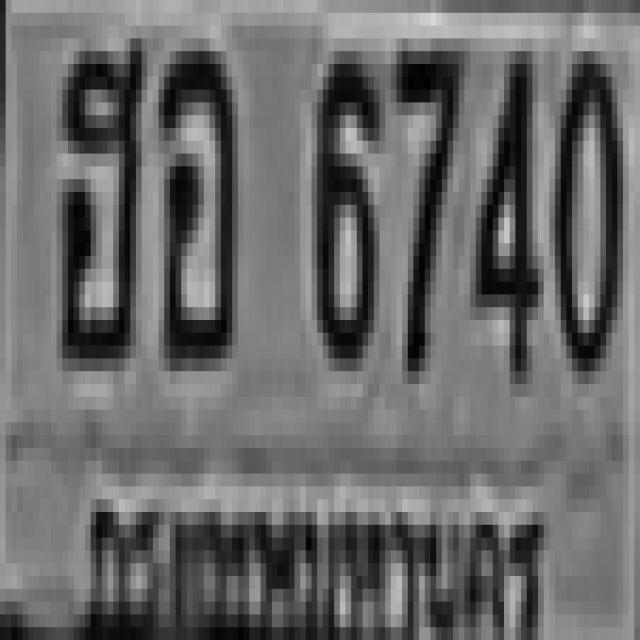0: (550, 39, 618, 372)
4: (470, 39, 532, 372)
52OrAng: (153, 39, 232, 358)
53HorNokHook: (56, 26, 142, 358)
6: (311, 39, 374, 358)
7: (391, 39, 459, 358)
Bangkok: (69, 466, 550, 640)
